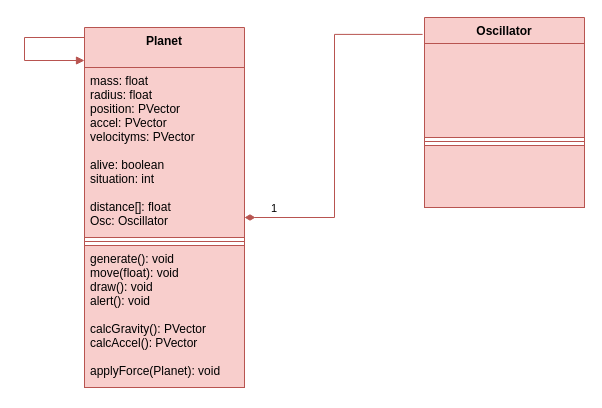
Image size: 602x408. Some labels were removed from this diagram. The shapes that lost their labels are listed below. From the top down, each one's centre as x and y in pixels, then its label:
At (504,90): "amp: float freq: float pan: float saw: SawOsc lowPass: LowPass".
At (504,176): "updateOsc(Planet): void play(): void stop(): void".
